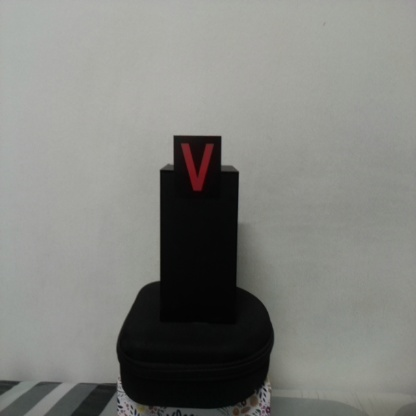id_11: (173, 135, 222, 205)
